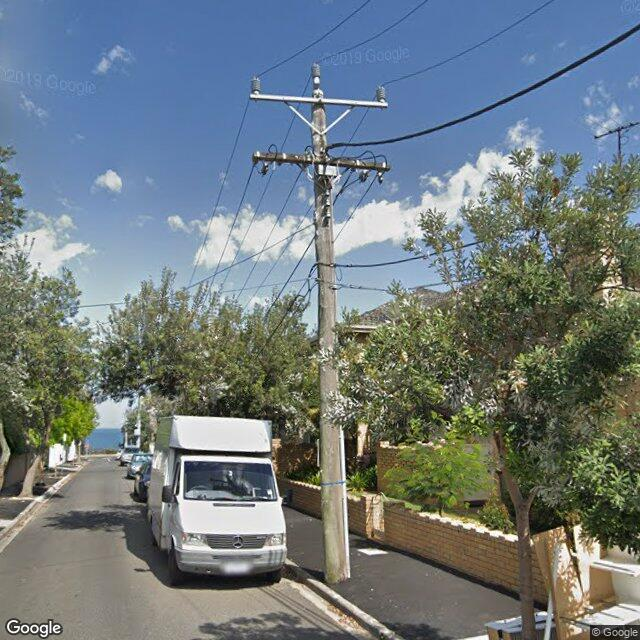HV-transmission: (251, 63, 386, 99)
crossarm: (252, 150, 391, 171), (249, 94, 388, 108), (594, 122, 640, 139)
timber-pole: (312, 88, 350, 583), (618, 128, 622, 155)
